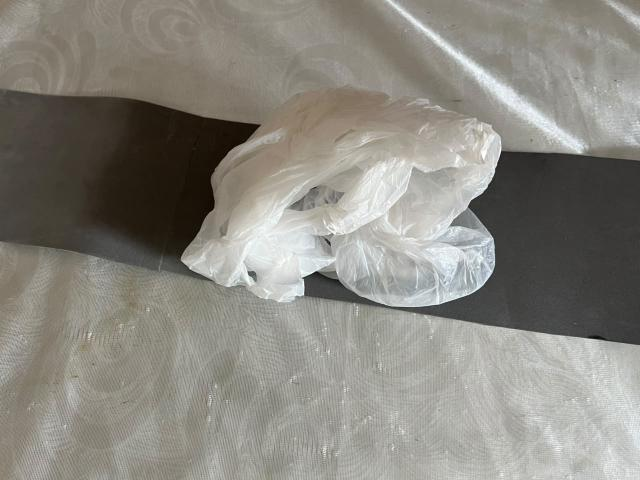LDPE: (168, 79, 530, 338)
